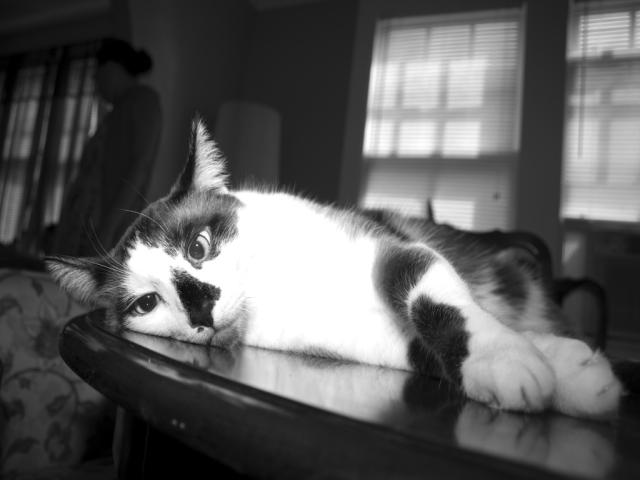Cat: (42, 113, 620, 414)
